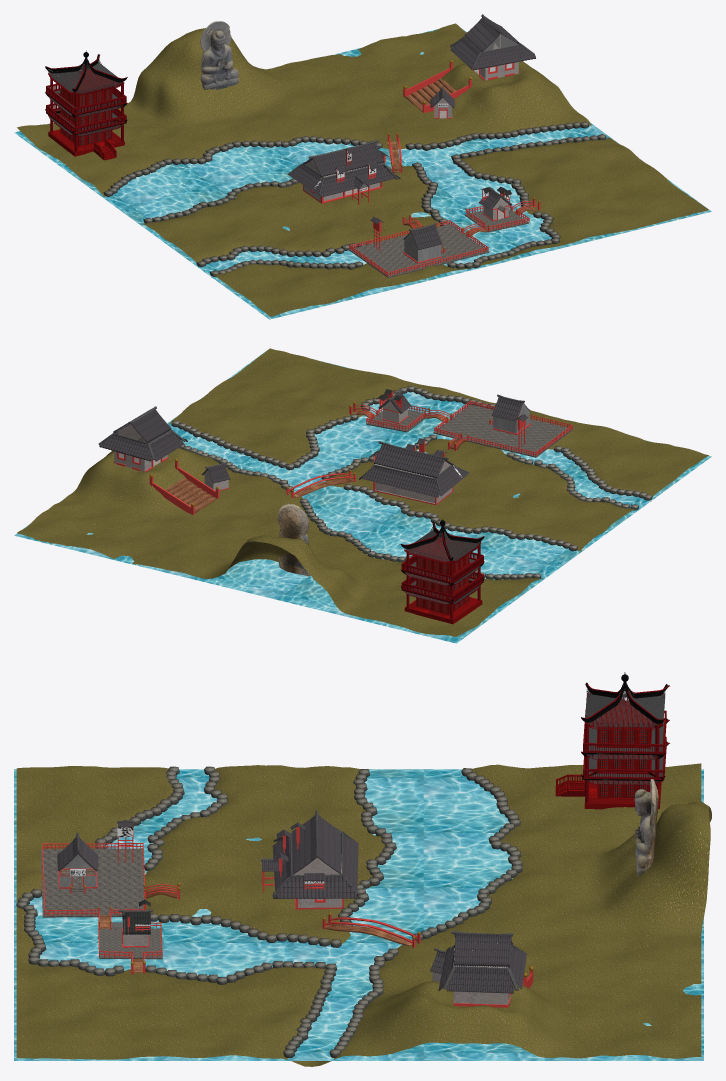
Rendered from wutai.glb.
3 renders of one model, top to bottom at view 1: azimuth 30°, elevation 25°; view 2: azimuth 150°, elevation 25°; view 3: azimuth 270°, elevation 25°, orthographic. The views are drawn at different scales.
Parts seen in each view (by area): view 1: Ground, Water, smallrock, Wutai_pagode, Wutai_ground_plate, Wutai_items, Wutai_yuffie_house, Object_6, Stairs, Wutai_restaurant, Wutai_weapons, Wutai_yuffie_garage; view 2: Ground, Water, smallrock, Wutai_pagode, Wutai_ground_plate, Wutai_items, Wutai_yuffie_house, Stairs, Object_6, Wutai_restaurant, Wutai_weapons, Wutai_wood_plate.010 (+1 smaller); view 3: Ground, Water, smallrock, Wutai_pagode, Wutai_ground_plate, Wutai_items, Wutai_yuffie_house, Wutai_restaurant, Object_6, Wutai_wood_plate.010, Wutai_weapons.
Boxes of the visible parts, x1,y1,x2,y2 form: Ground: (17, 23, 708, 316); Water: (14, 29, 711, 319); smallrock: (103, 121, 606, 277); Wutai_pagode: (45, 50, 127, 160); Wutai_ground_plate: (349, 197, 540, 277); Wutai_items: (287, 139, 400, 204); Wutai_yuffie_house: (450, 14, 535, 80); Object_6: (200, 21, 238, 89); Stairs: (403, 59, 471, 112); Wutai_restaurant: (403, 223, 444, 263); Wutai_weapons: (479, 186, 511, 220); Wutai_yuffie_garage: (430, 86, 454, 118); Ground: (17, 348, 708, 636); Water: (14, 349, 711, 643); smallrock: (171, 386, 652, 579); Wutai_pagode: (399, 519, 484, 624); Wutai_ground_plate: (349, 400, 573, 457); Wutai_items: (358, 438, 469, 505); Wutai_yuffie_house: (98, 406, 187, 472); Stairs: (149, 458, 219, 514); Object_6: (277, 504, 315, 576); Wutai_restaurant: (489, 394, 530, 434); Wutai_weapons: (376, 389, 411, 423); Wutai_wood_plate.010: (286, 469, 355, 498); Ground: (16, 763, 711, 1066); Water: (14, 769, 703, 1060); smallrock: (16, 766, 522, 1057); Wutai_pagode: (555, 672, 669, 809); Wutai_ground_plate: (40, 842, 180, 974); Wutai_items: (261, 810, 358, 909); Wutai_yuffie_house: (438, 930, 526, 1007); Wutai_restaurant: (57, 832, 98, 893); Object_6: (634, 779, 658, 876); Wutai_wood_plate.010: (322, 912, 420, 947); Wutai_weapons: (111, 899, 152, 947).
Size of the model in its own units: 53.05 by 12.43 by 53.68.
Materials: 54 (34 with a texture image).
